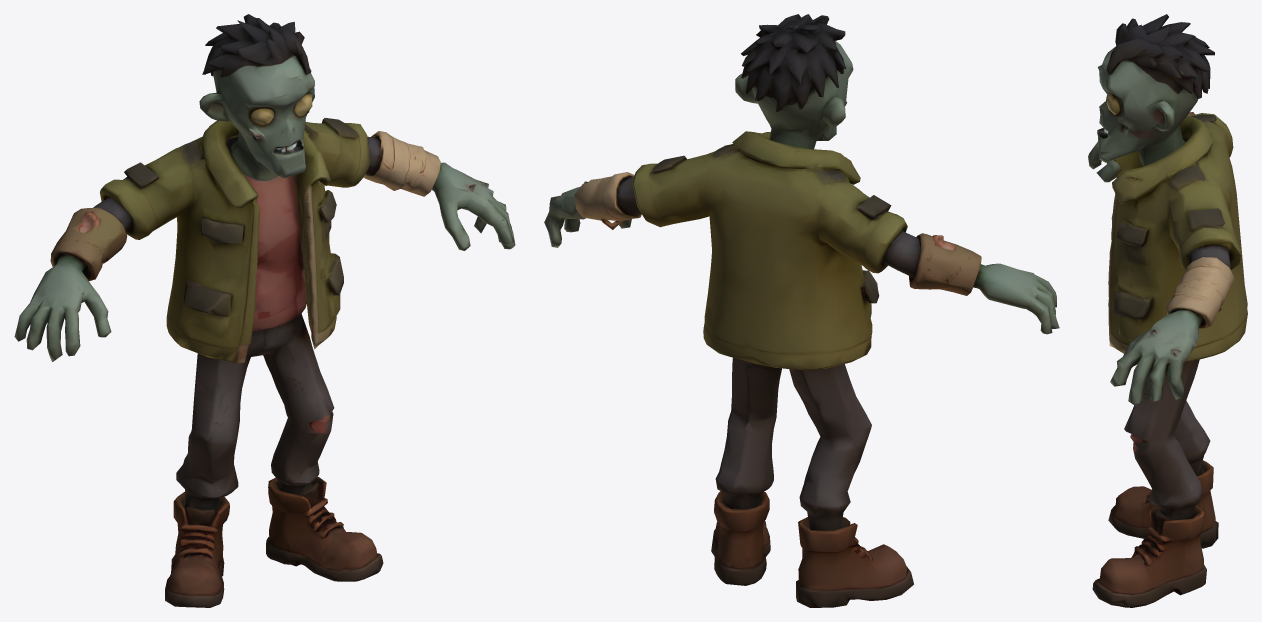
File: zombie.glb
The picture shows the model from 3 angles, left to right: view 1: azimuth 30°, elevation 25°; view 2: azimuth 150°, elevation 25°; view 3: azimuth 270°, elevation 25°; orthographic projection. The views are drawn at different scales.
Visible parts, largest first — view 1: Low_Poly_Zombie; view 2: Low_Poly_Zombie; view 3: Low_Poly_Zombie.
Part boxes in pixels (x1=…): Low_Poly_Zombie: x1=14, y1=14, x2=515, y2=607; Low_Poly_Zombie: x1=544, y1=14, x2=1059, y2=607; Low_Poly_Zombie: x1=1088, y1=14, x2=1247, y2=607.
Size of the model in its own units: 1.68 by 1.8 by 0.4815.
Materials: 1 (1 with a texture image).
